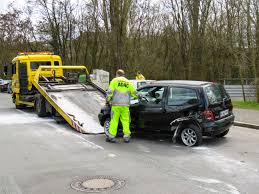acc: (98, 80, 236, 147)
